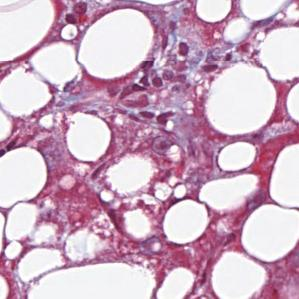inflammation: (118, 56, 165, 104)
